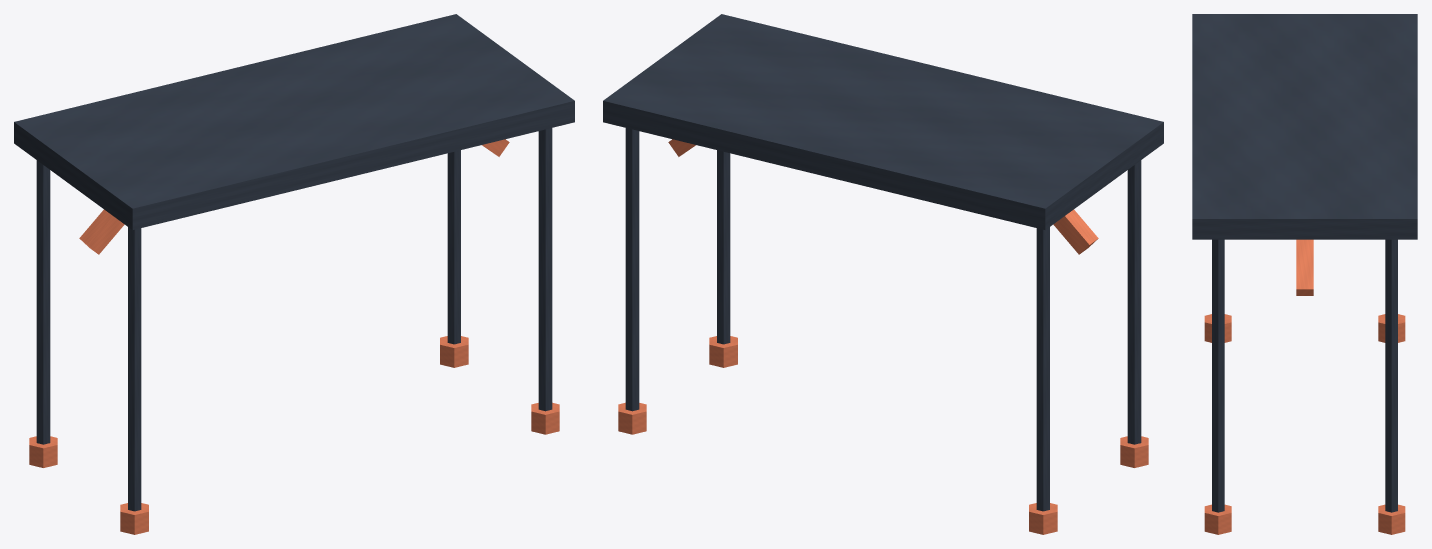
The model's file is atlas100-s021-a08.glb.
The picture shows the model from 3 angles, left to right: view 1: azimuth 30°, elevation 25°; view 2: azimuth 150°, elevation 25°; view 3: azimuth 270°, elevation 25°; orthographic projection. The views are drawn at different scales.
Parts seen in each view (by area): view 1: atlas100-s021-a08:part-010, atlas100-s021-a08:part-006, atlas100-s021-a08:part-000, atlas100-s021-a08:part-002, atlas100-s021-a08:part-004, atlas100-s021-a08:part-011, atlas100-s021-a08:part-007, atlas100-s021-a08:part-001, atlas100-s021-a08:part-003, atlas100-s021-a08:part-005; view 2: atlas100-s021-a08:part-010, atlas100-s021-a08:part-004, atlas100-s021-a08:part-002, atlas100-s021-a08:part-000, atlas100-s021-a08:part-006, atlas100-s021-a08:part-011, atlas100-s021-a08:part-005, atlas100-s021-a08:part-001, atlas100-s021-a08:part-003, atlas100-s021-a08:part-007; view 3: atlas100-s021-a08:part-010, atlas100-s021-a08:part-004, atlas100-s021-a08:part-006, atlas100-s021-a08:part-012, atlas100-s021-a08:part-005, atlas100-s021-a08:part-007, atlas100-s021-a08:part-001, atlas100-s021-a08:part-003.
Part boxes in pixels (x1,y1,x2,y2): atlas100-s021-a08:part-010: (14,14,574,230); atlas100-s021-a08:part-006: (538,128,552,411); atlas100-s021-a08:part-000: (36,160,50,444); atlas100-s021-a08:part-002: (128,227,141,511); atlas100-s021-a08:part-004: (447,150,460,344); atlas100-s021-a08:part-011: (79,209,124,254); atlas100-s021-a08:part-007: (531,402,559,434); atlas100-s021-a08:part-001: (29,436,57,467); atlas100-s021-a08:part-003: (120,503,148,534); atlas100-s021-a08:part-005: (440,336,468,367); atlas100-s021-a08:part-010: (603,14,1163,230); atlas100-s021-a08:part-004: (625,128,639,411); atlas100-s021-a08:part-002: (1127,160,1141,444); atlas100-s021-a08:part-000: (1036,227,1049,511); atlas100-s021-a08:part-006: (717,150,730,344); atlas100-s021-a08:part-011: (1053,209,1098,254); atlas100-s021-a08:part-005: (618,402,646,434); atlas100-s021-a08:part-001: (1029,503,1057,534); atlas100-s021-a08:part-003: (1120,436,1148,467); atlas100-s021-a08:part-007: (709,336,737,367); atlas100-s021-a08:part-010: (1192,14,1417,239); atlas100-s021-a08:part-004: (1385,239,1397,512); atlas100-s021-a08:part-006: (1212,239,1224,512); atlas100-s021-a08:part-012: (1296,239,1313,295); atlas100-s021-a08:part-005: (1378,504,1405,534); atlas100-s021-a08:part-007: (1204,504,1231,534); atlas100-s021-a08:part-001: (1378,314,1405,342); atlas100-s021-a08:part-003: (1204,314,1231,342).
Bounding box in the file's own units: 5.6 × 4.03 × 2.6.
Materials: 2 (2 with a texture image).
